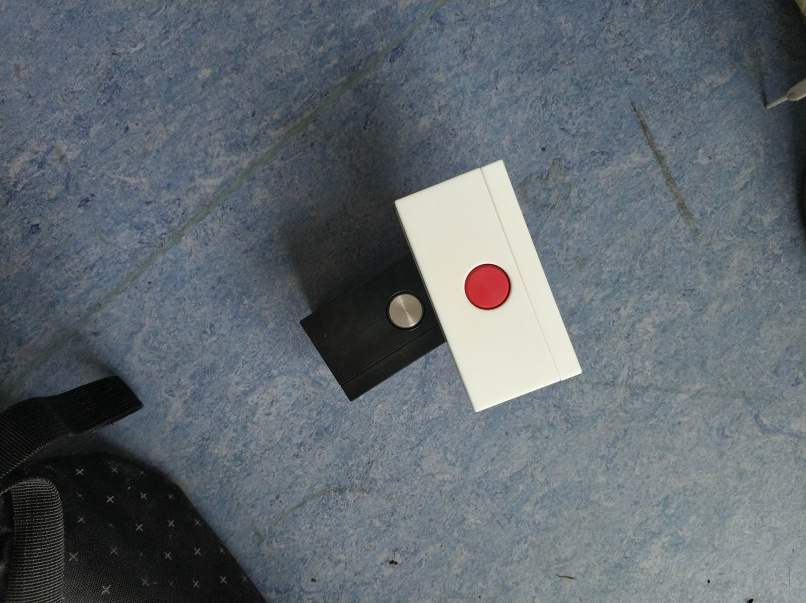black+black+silver: (294, 252, 449, 405)
white+white+red: (392, 157, 587, 410)
